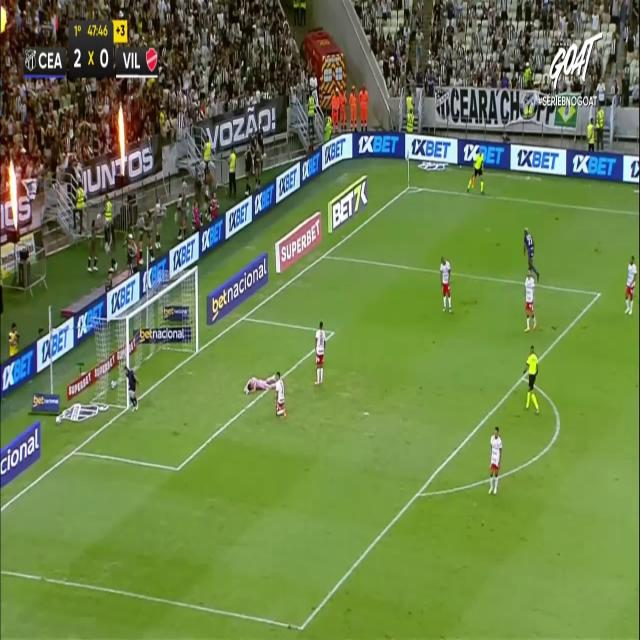ball: (108, 380, 116, 394)
player: (488, 425, 502, 494), (523, 227, 539, 283), (524, 269, 537, 332), (314, 320, 326, 385), (123, 364, 139, 411), (243, 373, 277, 395), (624, 254, 636, 315), (440, 255, 452, 313), (274, 371, 286, 418)
referee: (523, 344, 540, 414), (467, 145, 485, 194)
